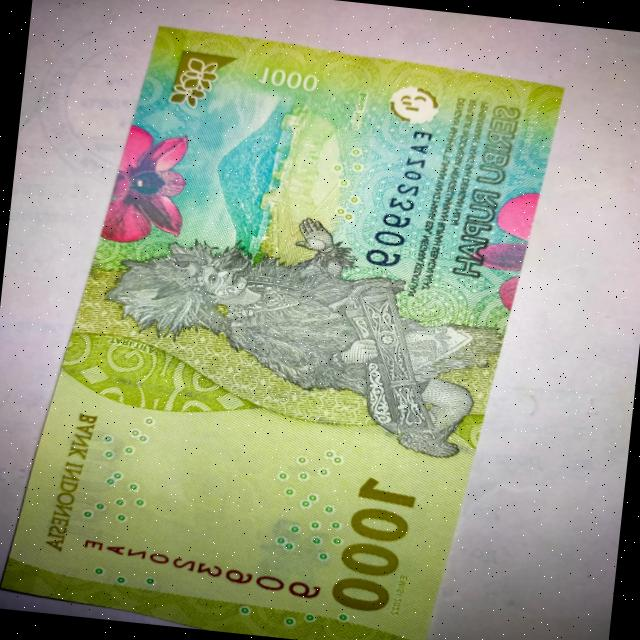1K: (0, 24, 567, 640)
